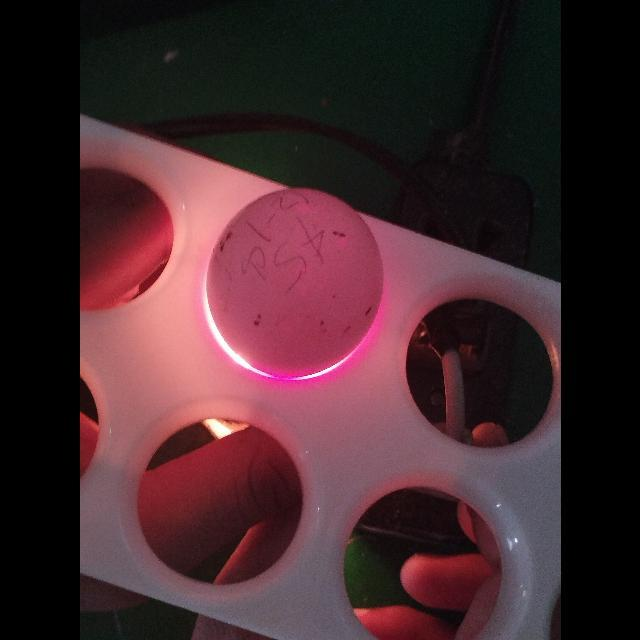Fertile: (202, 184, 386, 382)
